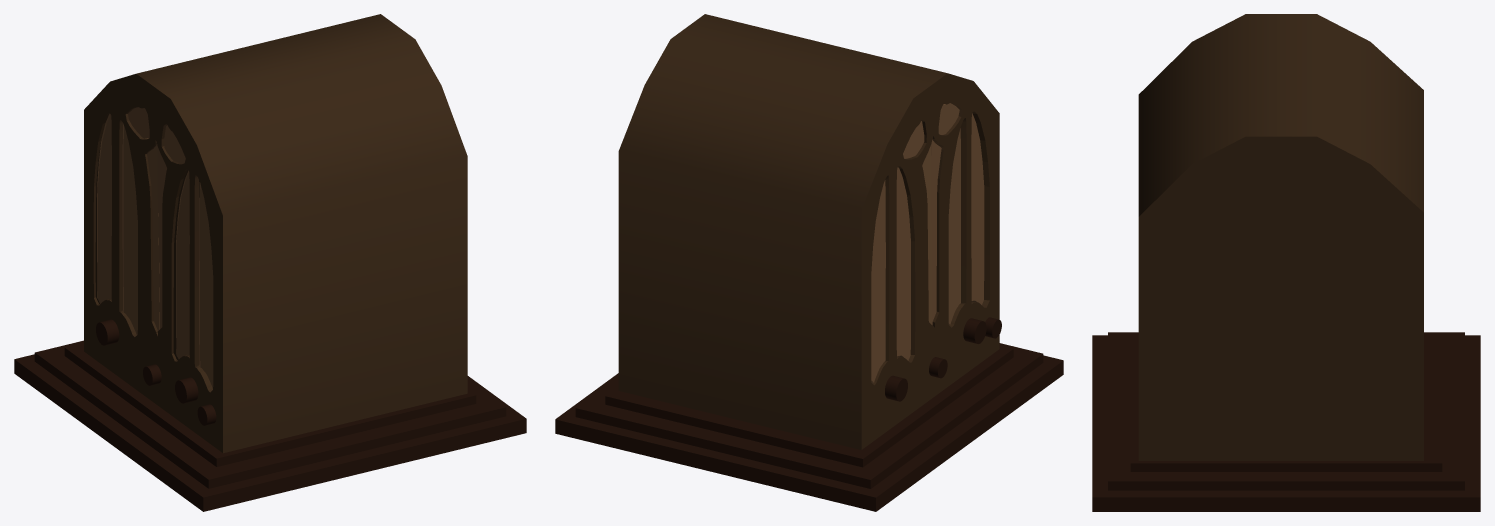
The model's file is RADIO.fbx.
3 views of the same model, side by side, from view 1: azimuth 30°, elevation 25°; view 2: azimuth 150°, elevation 25°; view 3: azimuth 270°, elevation 25° (orthographic). The views are drawn at different scales.
Parts seen in each view (by area): view 1: Box004; view 2: Box004; view 3: Box004.
Part boxes in pixels (x1,y1,x2,y2): Box004: [14, 14, 526, 511]; Box004: [555, 14, 1063, 511]; Box004: [1092, 14, 1480, 511].
Size of the model in its own units: 7.91 by 8.13 by 8.01.
